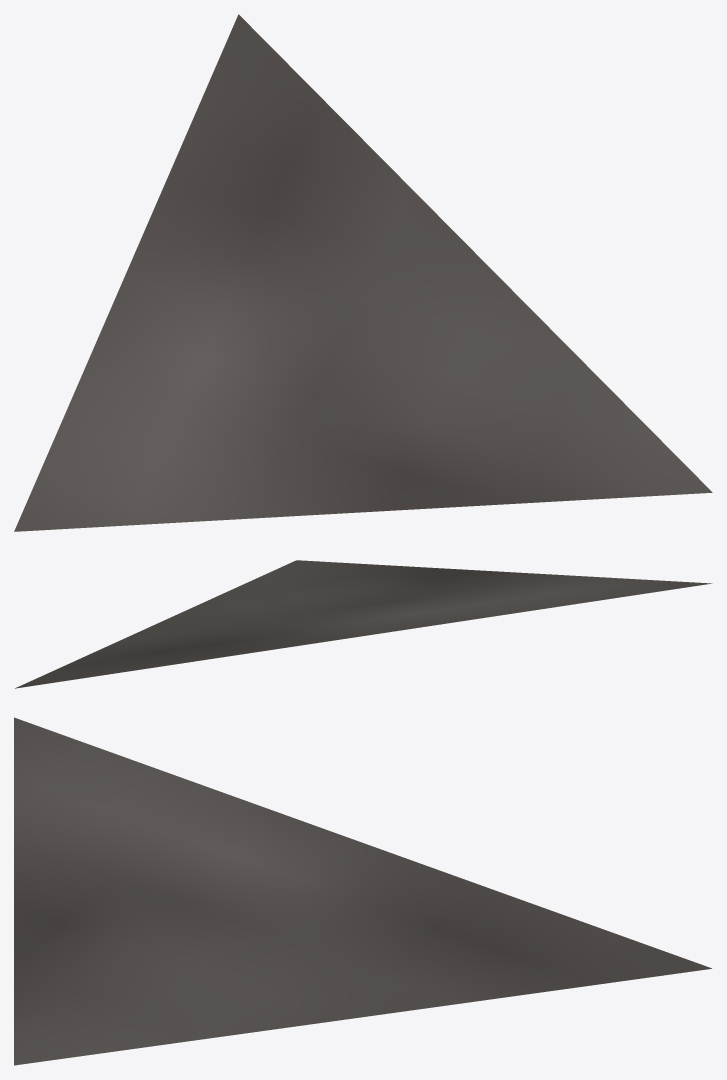
3 renders of one model, top to bottom at view 1: azimuth 30°, elevation 25°; view 2: azimuth 150°, elevation 25°; view 3: azimuth 270°, elevation 25°, orthographic. The views are drawn at different scales.
Bounding box in the file's own units: 0.0443 × 0.00797 × 0.0521.
1 material, 1 textured.
